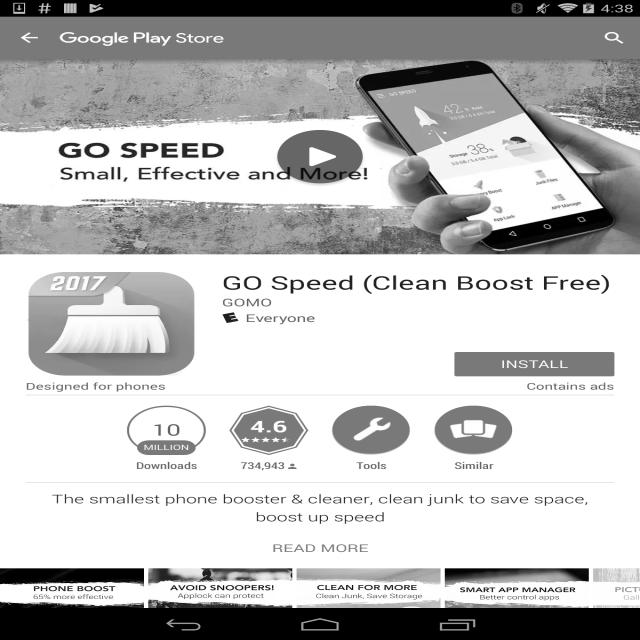Button: (222, 406, 316, 472), (324, 406, 418, 472), (426, 406, 520, 472), (454, 352, 614, 376)
ImageButton: (0, 17, 60, 59)
ImageView: (0, 59, 640, 254), (26, 270, 196, 377), (296, 567, 441, 640), (445, 567, 589, 640), (0, 568, 144, 640), (148, 568, 292, 640), (264, 121, 376, 192), (332, 406, 411, 455), (434, 406, 513, 455), (593, 568, 640, 640), (60, 30, 224, 46), (222, 312, 239, 323), (288, 464, 297, 469)
TextView: (0, 490, 640, 537), (0, 537, 640, 555), (222, 270, 614, 295), (25, 380, 166, 392), (589, 22, 640, 54), (324, 455, 418, 472), (426, 455, 520, 472), (120, 455, 213, 472), (526, 380, 614, 392), (245, 311, 316, 325), (250, 415, 288, 437), (240, 455, 285, 472), (222, 295, 272, 309), (152, 420, 181, 440), (142, 443, 192, 452)
